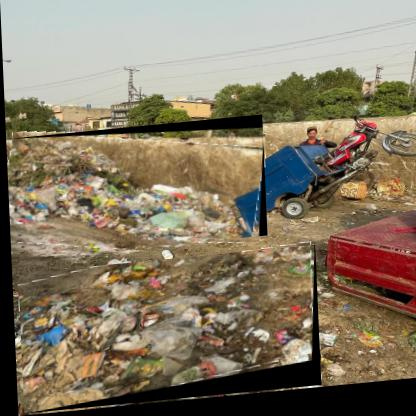Garbage: (17, 252, 319, 416), (6, 121, 267, 262)
